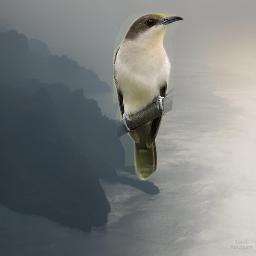Cuckoo: (113, 13, 184, 181)
